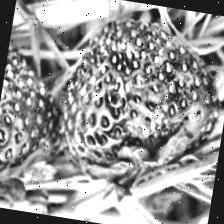Anthracnose Fruit Rot: (99, 43, 143, 108)
